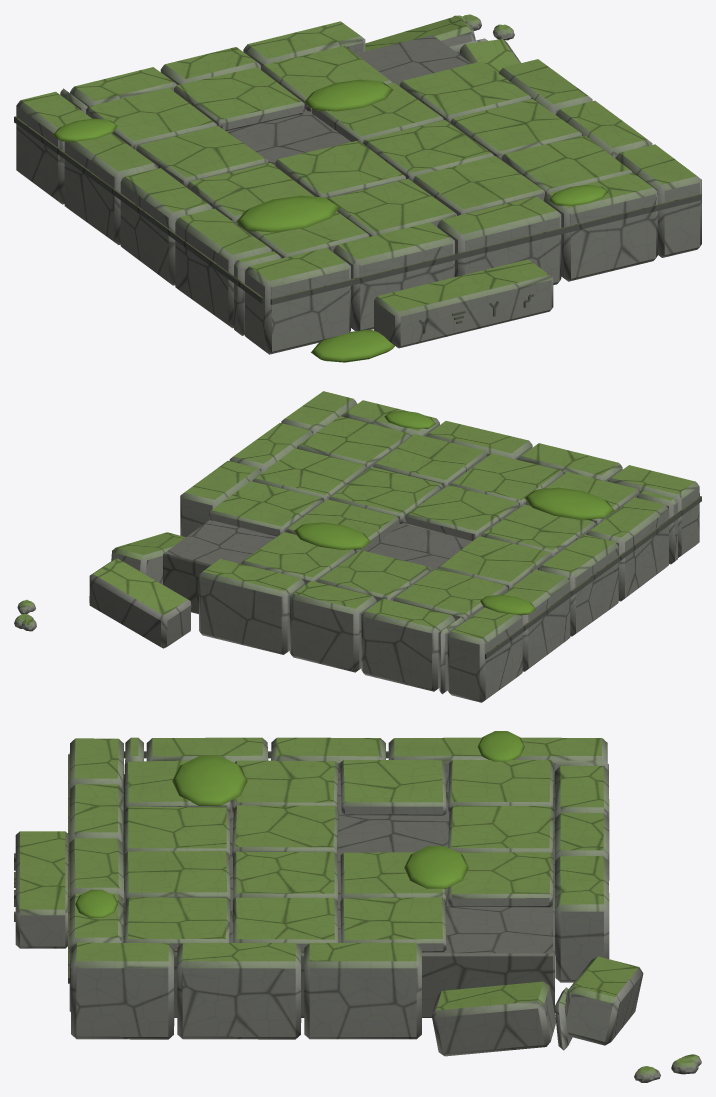
The model's file is stone_platform_ruin.glb.
3 views of the same model, one above another, from view 1: azimuth 30°, elevation 25°; view 2: azimuth 150°, elevation 25°; view 3: azimuth 270°, elevation 25° (orthographic). The views are drawn at different scales.
Parts seen in each view (by area): view 1: stone_platform_ruin; view 2: stone_platform_ruin; view 3: stone_platform_ruin.
Boxes of the visible parts, bbox=[...] form: stone_platform_ruin: bbox=[14, 14, 701, 362]; stone_platform_ruin: bbox=[14, 391, 701, 702]; stone_platform_ruin: bbox=[14, 731, 701, 1082].
Size of the model in its own units: 5.98 by 1.05 by 6.38.
Materials: 4 (4 with a texture image).
